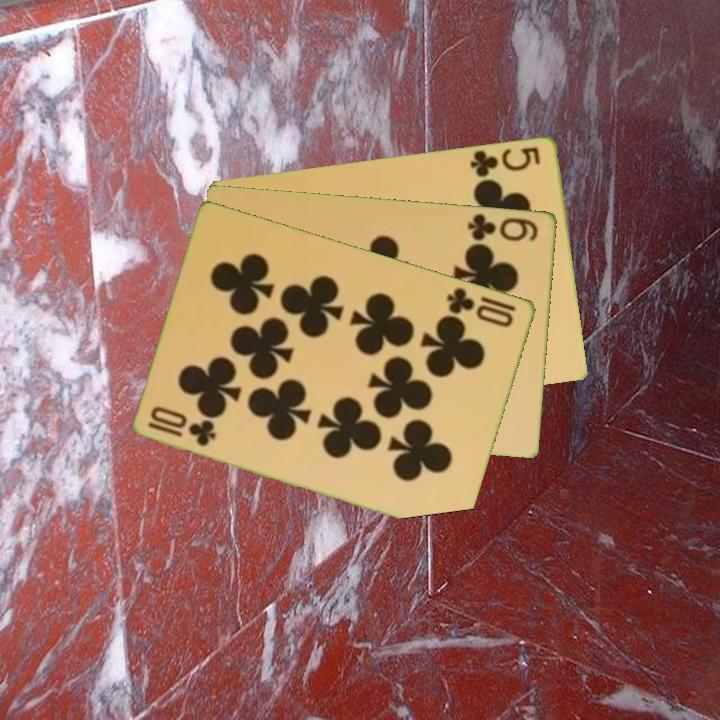10c: (443, 283, 517, 330), (145, 417, 220, 450)
5c: (466, 143, 543, 180)
6c: (465, 209, 542, 244)
